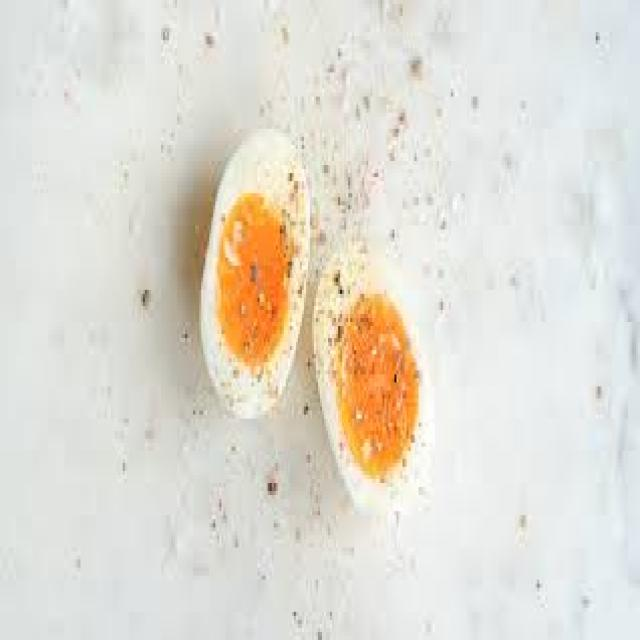boiled egg: (190, 83, 442, 556)
